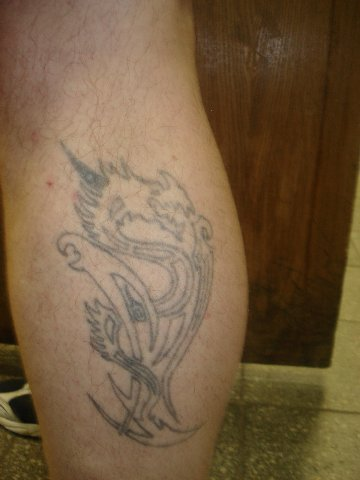tatu6_drakon: (40, 135, 237, 458)
